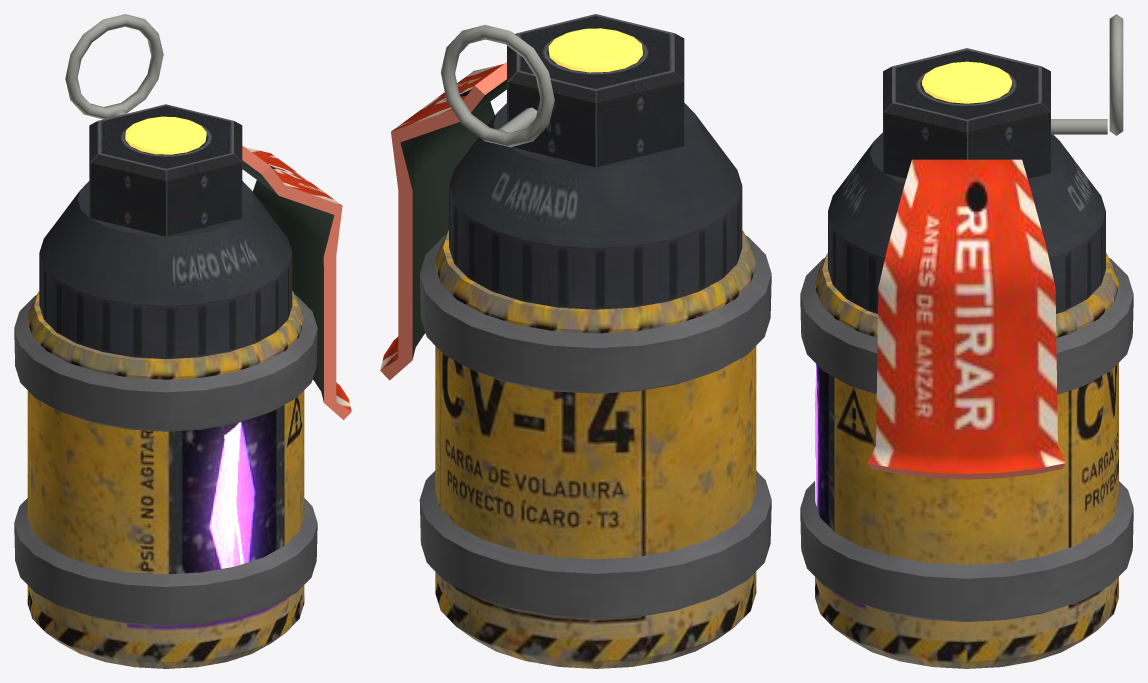
Rendered from granada.glb.
The picture shows the model from 3 angles, left to right: view 1: azimuth 30°, elevation 25°; view 2: azimuth 150°, elevation 25°; view 3: azimuth 270°, elevation 25°; orthographic projection. The views are drawn at different scales.
Visible parts, largest first — view 1: gr_cuerpo, gr_tirador, gr_pasador, gr_luz; view 2: gr_cuerpo, gr_tirador, gr_pasador, gr_luz; view 3: gr_cuerpo, gr_tirador, gr_luz, gr_pasador.
Boxes of the visible parts, x1,y1,x2,y2 form: gr_cuerpo: [14, 104, 317, 668]; gr_tirador: [242, 145, 351, 420]; gr_pasador: [65, 14, 163, 119]; gr_luz: [125, 116, 206, 154]; gr_cuerpo: [419, 14, 771, 668]; gr_tirador: [380, 62, 506, 380]; gr_pasador: [440, 25, 554, 147]; gr_luz: [548, 28, 642, 72]; gr_cuerpo: [800, 48, 1133, 668]; gr_tirador: [868, 159, 1065, 479]; gr_luz: [922, 61, 1011, 103]; gr_pasador: [1051, 14, 1123, 135].
Size of the model in its own units: 0.0708 by 0.1265 by 0.0636.
Materials: 2 (1 with a texture image).
